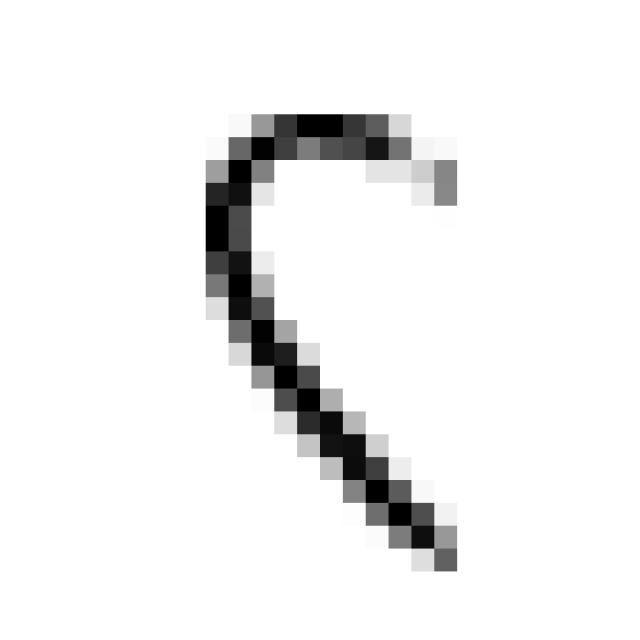2 -two-: (185, 76, 484, 592)
